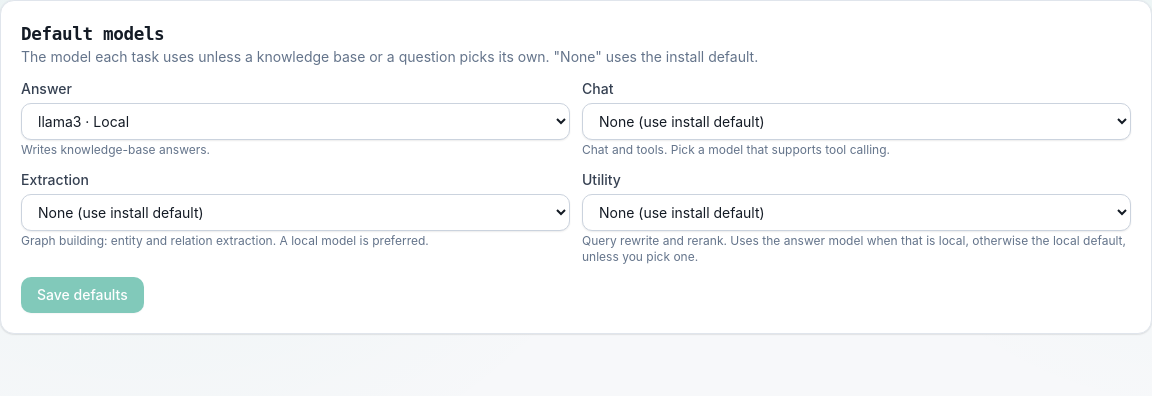
ModelDefaultsPanel › saves only the changed roles; None clears a role
expect the button "Save defaults" is disabled: met, box [21,277,144,313]
Select "None (use install default)" in the dropdown labelled "Answer": [296, 122] box [21,103,570,140]
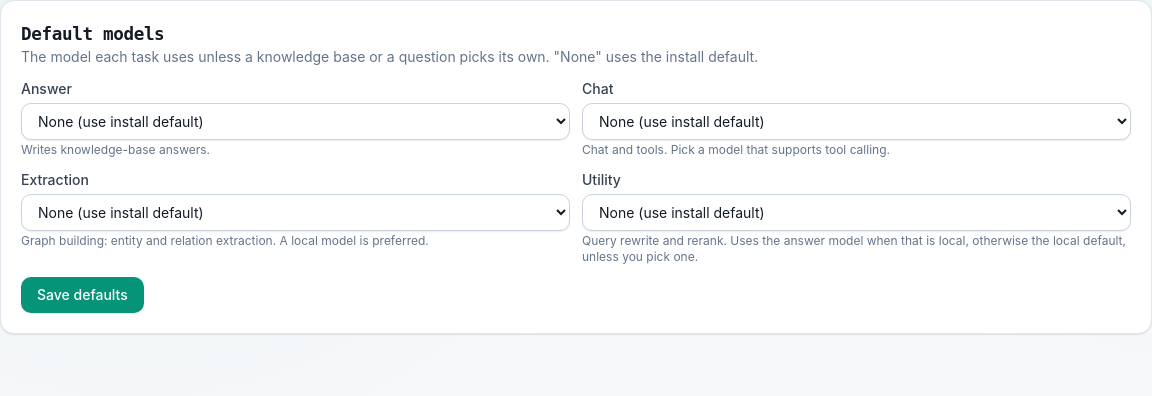
Select "gpt-4o (OpenAI) · Cloud" in the dropdown labelled "Chat": [856, 122] box [582,103,1131,140]
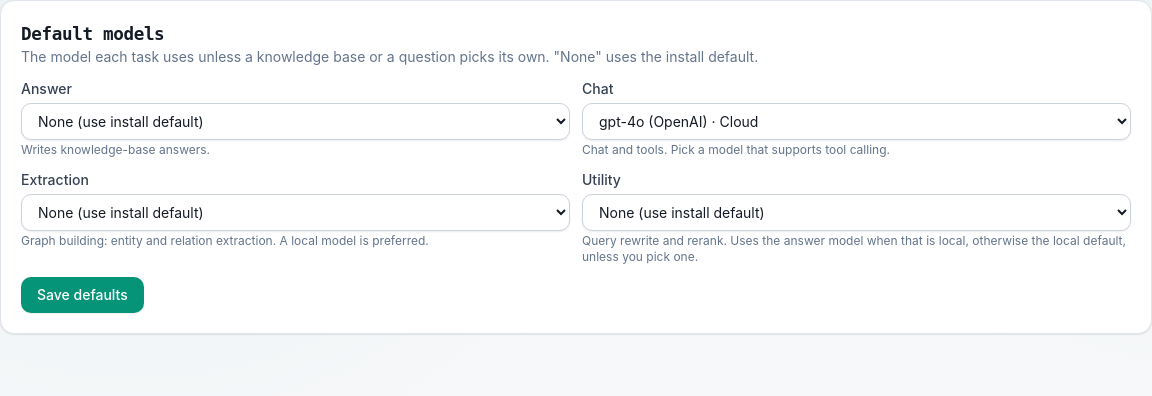
Click the button "Save defaults": [82, 295] box [21,277,144,313]
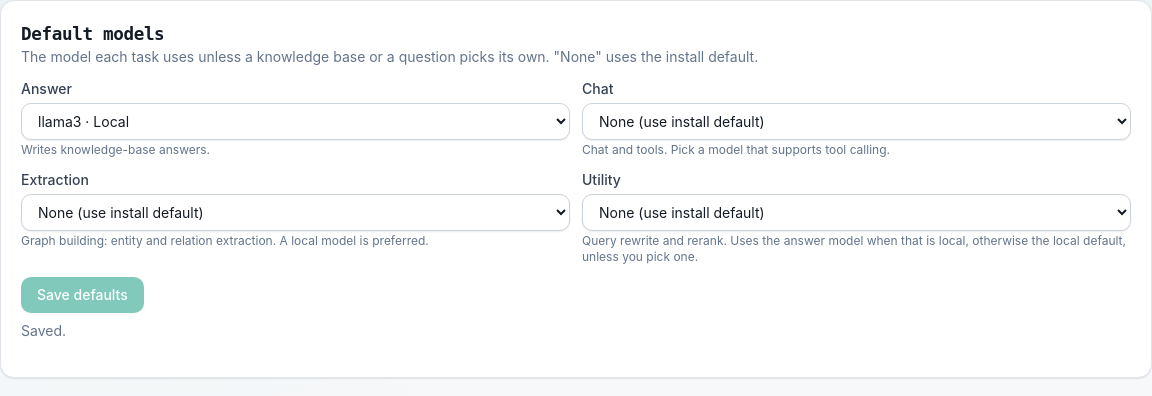
expect the text "Saved." is shown: met, box [21,322,66,339]
